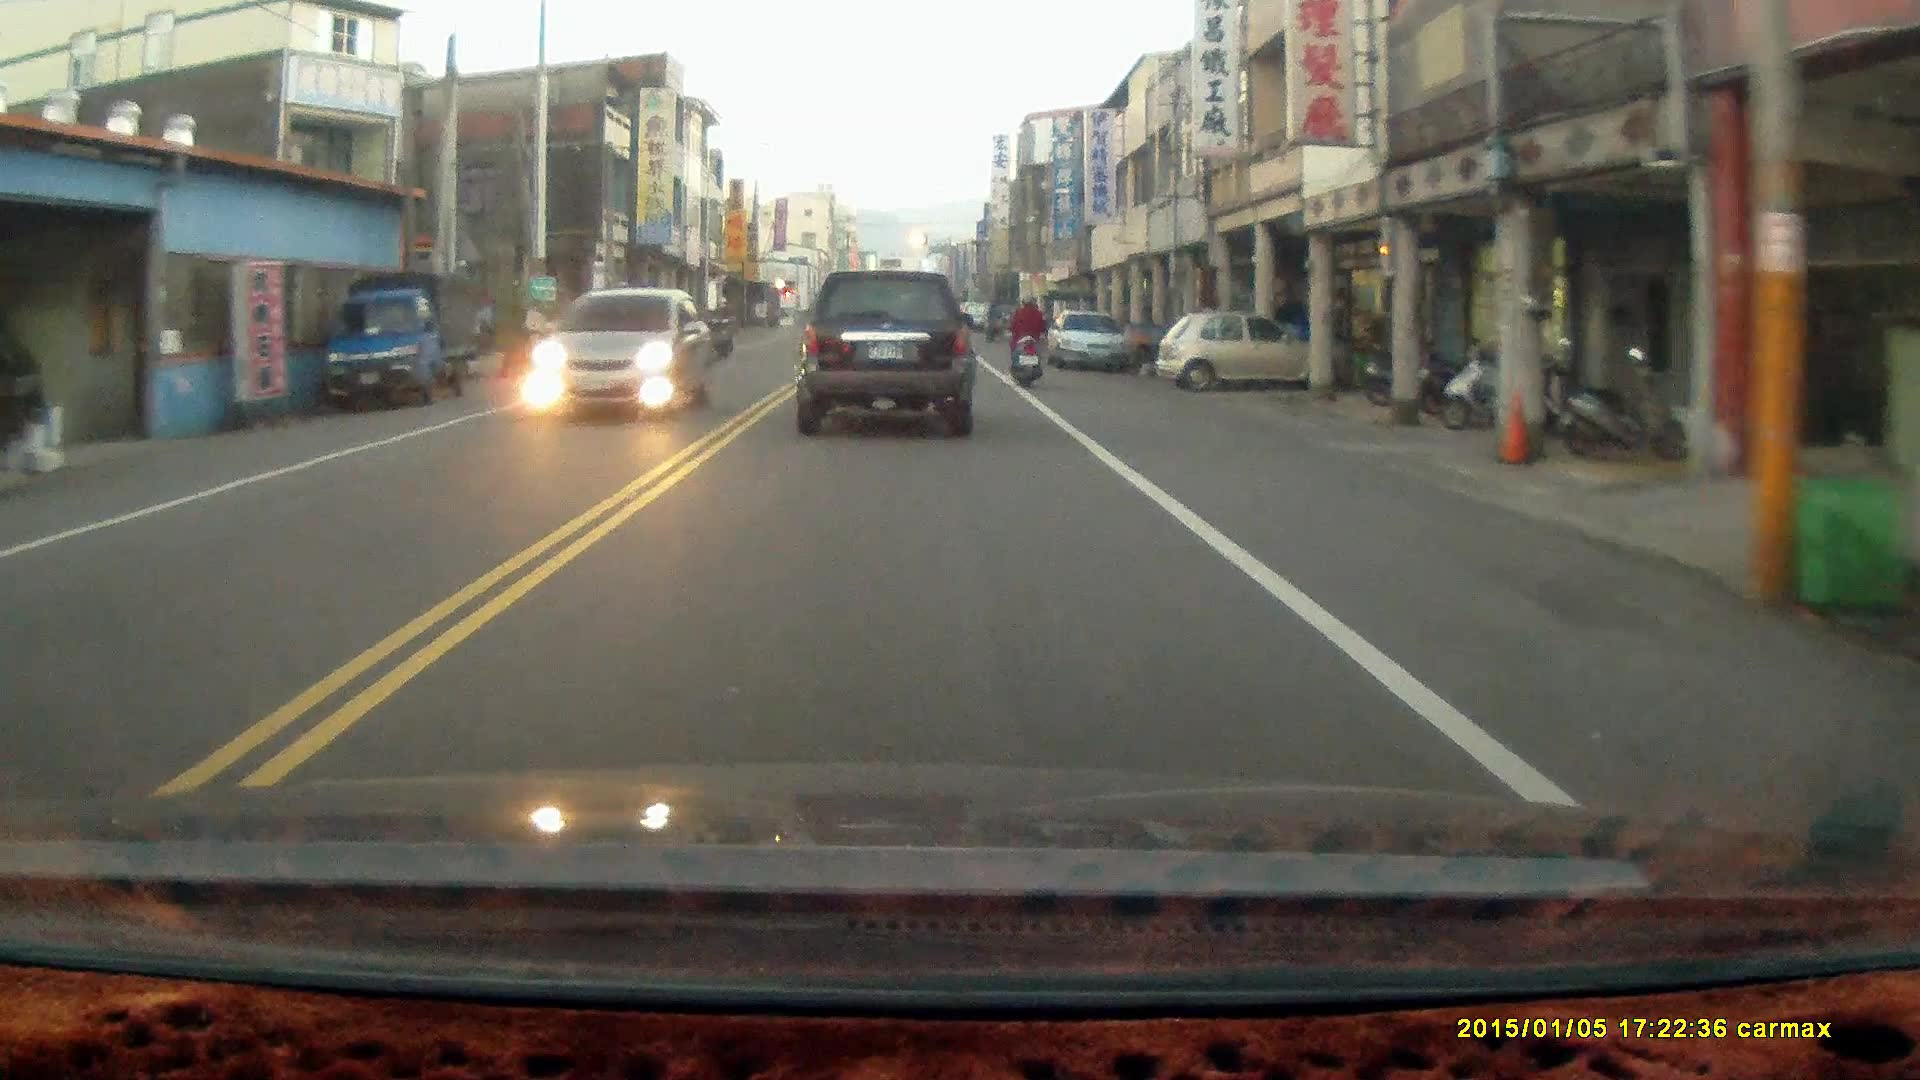rider: (1007, 291, 1045, 386), (705, 295, 738, 357)
vehicle: (793, 265, 977, 438), (535, 286, 717, 421), (323, 269, 486, 415), (1160, 308, 1332, 394), (1048, 312, 1135, 371)
